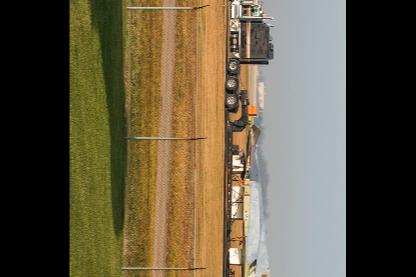E7: (241, 124, 272, 276)
